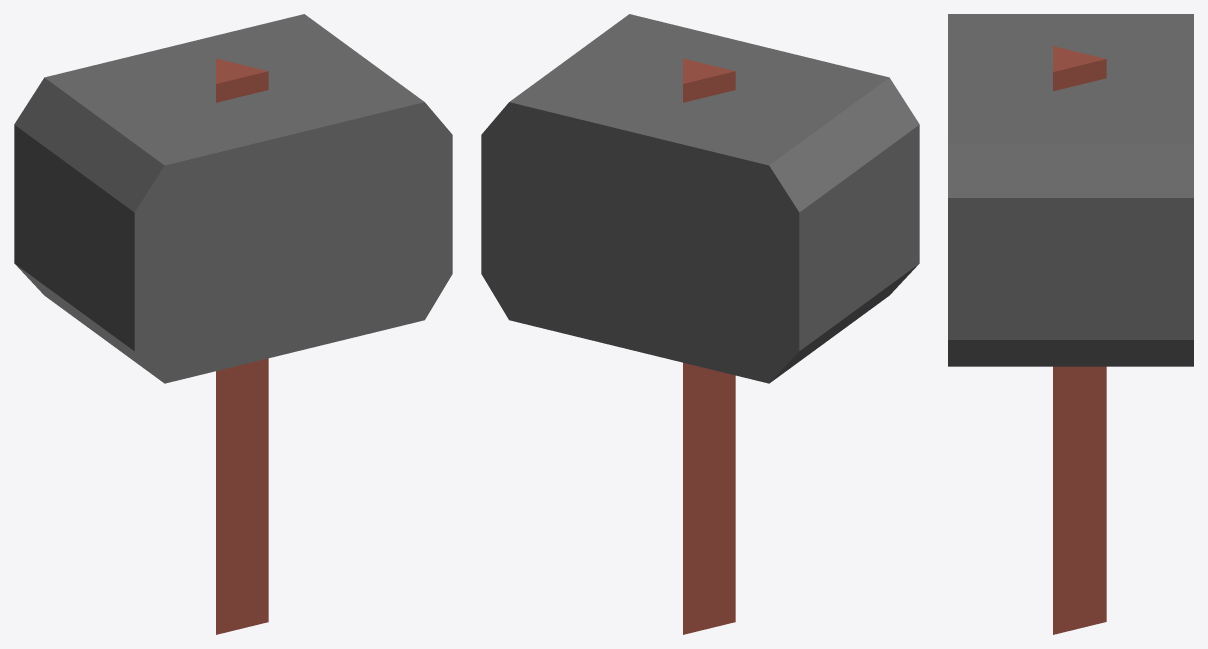
The model's file is Hammer.fbx.
3 views of the same model, side by side, from view 1: azimuth 30°, elevation 25°; view 2: azimuth 150°, elevation 25°; view 3: azimuth 270°, elevation 25° (orthographic). The views are drawn at different scales.
Parts seen in each view (by area): view 1: Cube; view 2: Cube; view 3: Cube.
Boxes of the visible parts, box(x1,y1,x2,y2) form: Cube: box(14, 14, 452, 634); Cube: box(481, 14, 919, 634); Cube: box(948, 14, 1193, 634).
Bounding box in the file's own units: 305 × 505 × 200.
